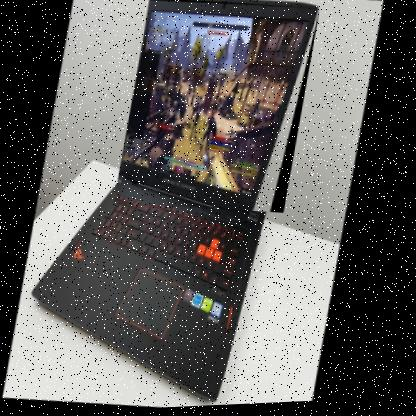Normal: (114, 0, 321, 222)
